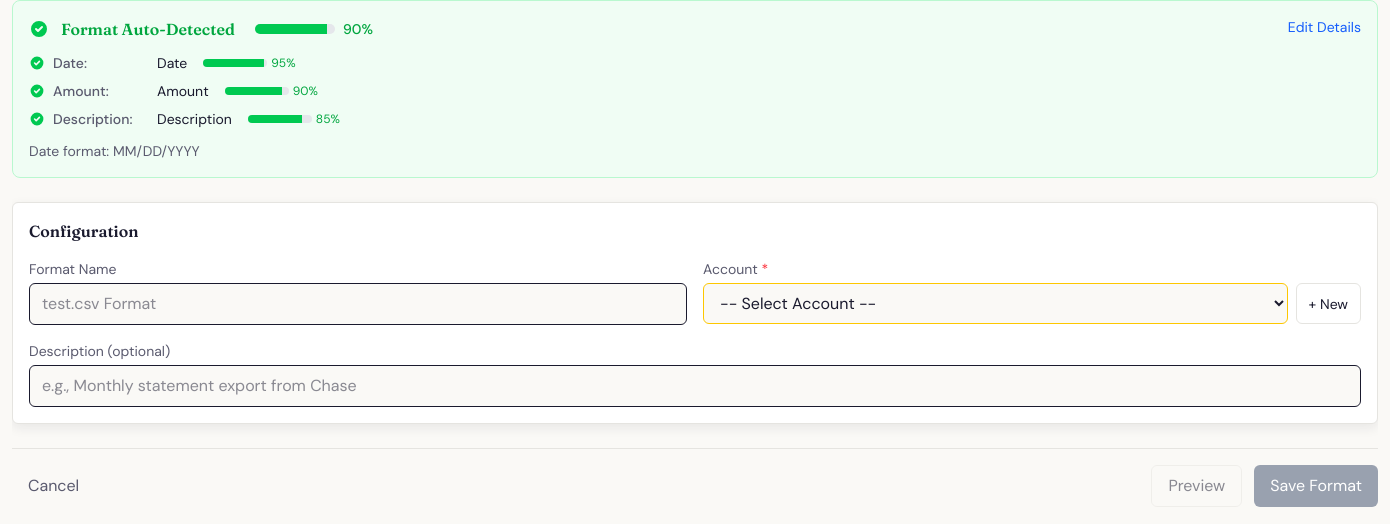
Test: CustomFormatMapper › enables save button when preview has transactions
# Select an account
Select "Chase Checking" in the dropdown: (995,304) [703,283,1288,324]
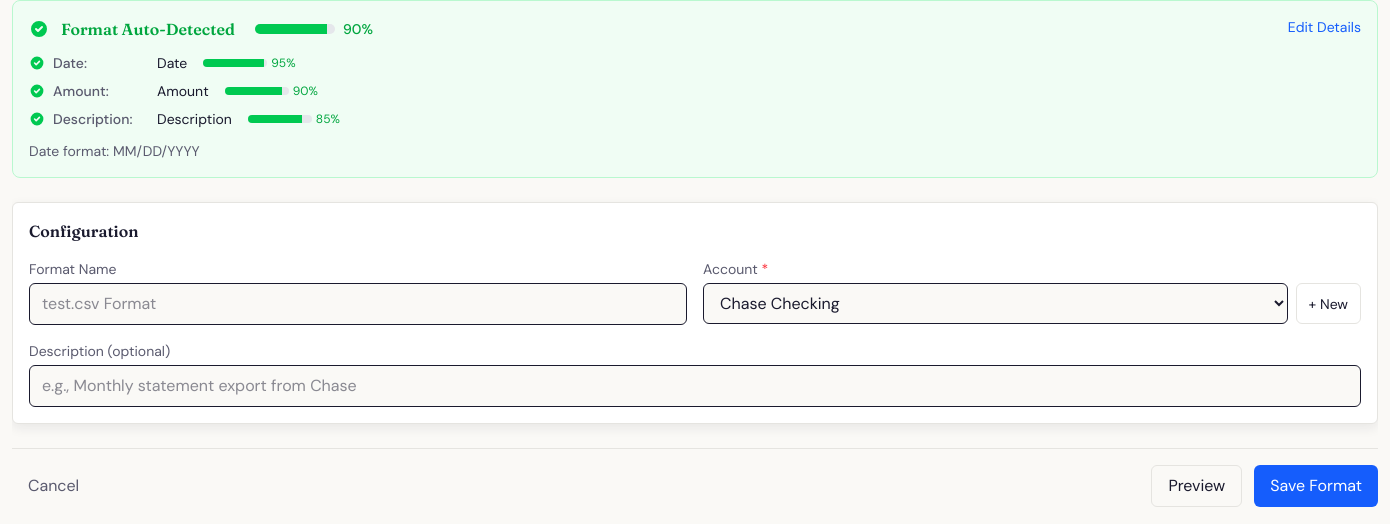
Check: the button "Save Format" is enabled, box [1254,465,1378,507]
